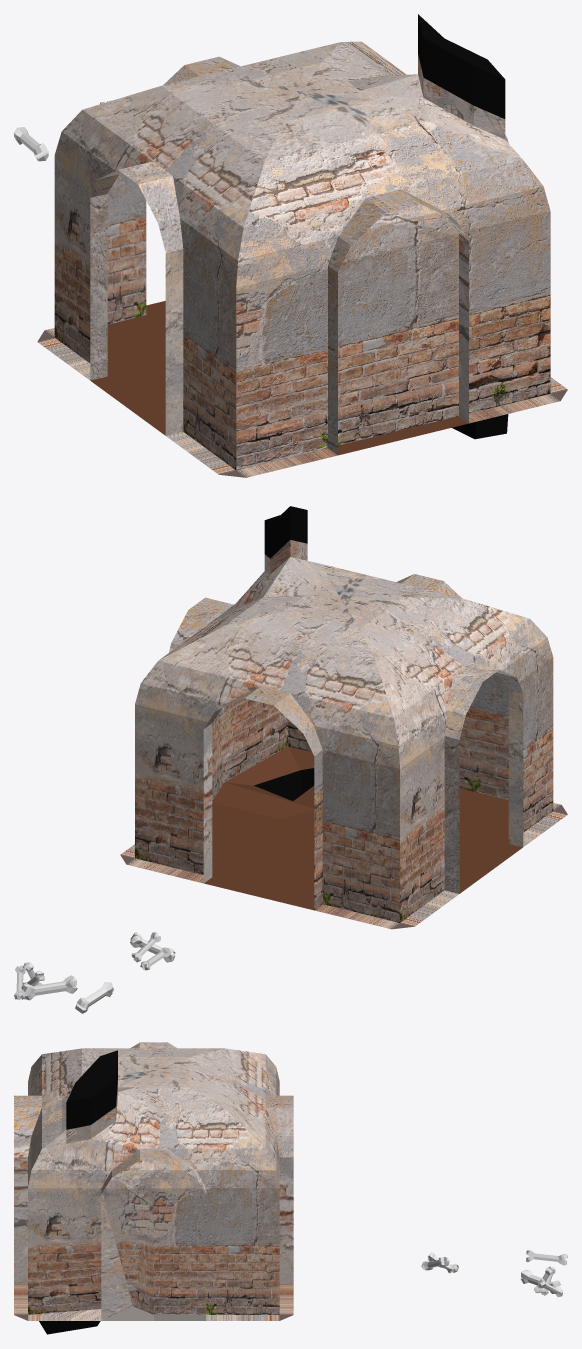
Rendered from MAZE-ELEMENTS-turn-2.fbx.
3 renders of one model, top to bottom at view 1: azimuth 30°, elevation 25°; view 2: azimuth 150°, elevation 25°; view 3: azimuth 270°, elevation 25°, orthographic. The views are drawn at different scales.
Parts seen in each view (by area): view 1: turn.001; view 2: turn.001, bone.001; view 3: turn.001.
Boxes of the visible parts, bbox=[...] form: turn.001: bbox=[37, 14, 567, 477]; turn.001: bbox=[120, 506, 567, 929]; bone.001: bbox=[21, 975, 77, 1000]; turn.001: bbox=[14, 1042, 293, 1334].
Bounding box in the file's own units: 400 × 428 × 792.
